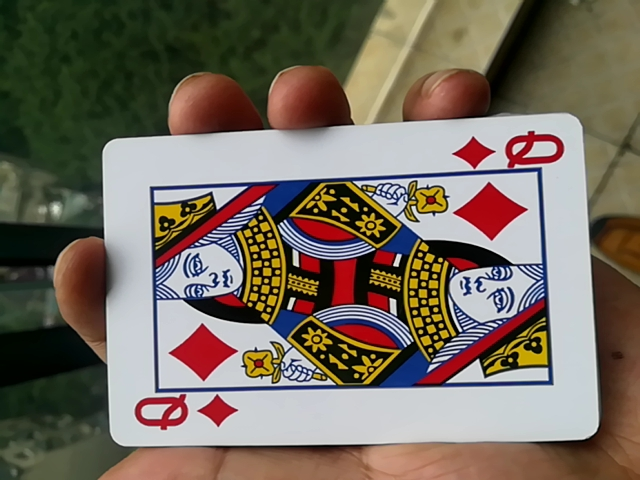fk q: (86, 117, 589, 454)
